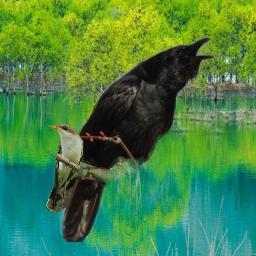Crow: (53, 33, 217, 242)
Cuckoo: (46, 124, 84, 212)
